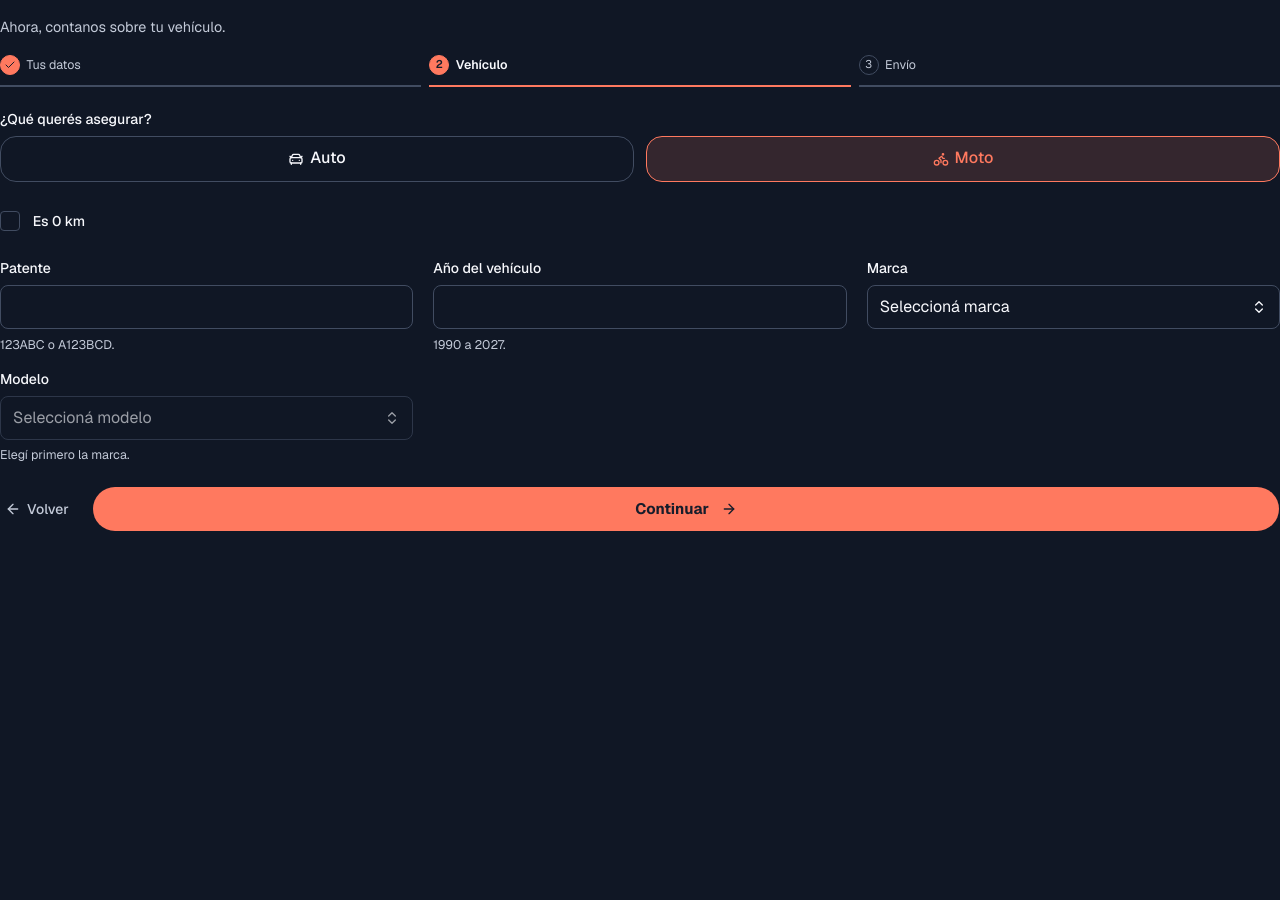
Test: LeadForm › reveals the correct stage when final submission returns an earlier field error
Earlier steps of the test are not shown.
Later steps or results of the test are not shown.
Type "A123BCD" into the field labelled "Patente".
click(207, 307); type("A123BCD")  # box top-left (0, 285), bottom-right (413, 329)
Click the dropdown labelled "marca".
click(945, 307)  # box top-left (867, 285), bottom-right (1279, 329)
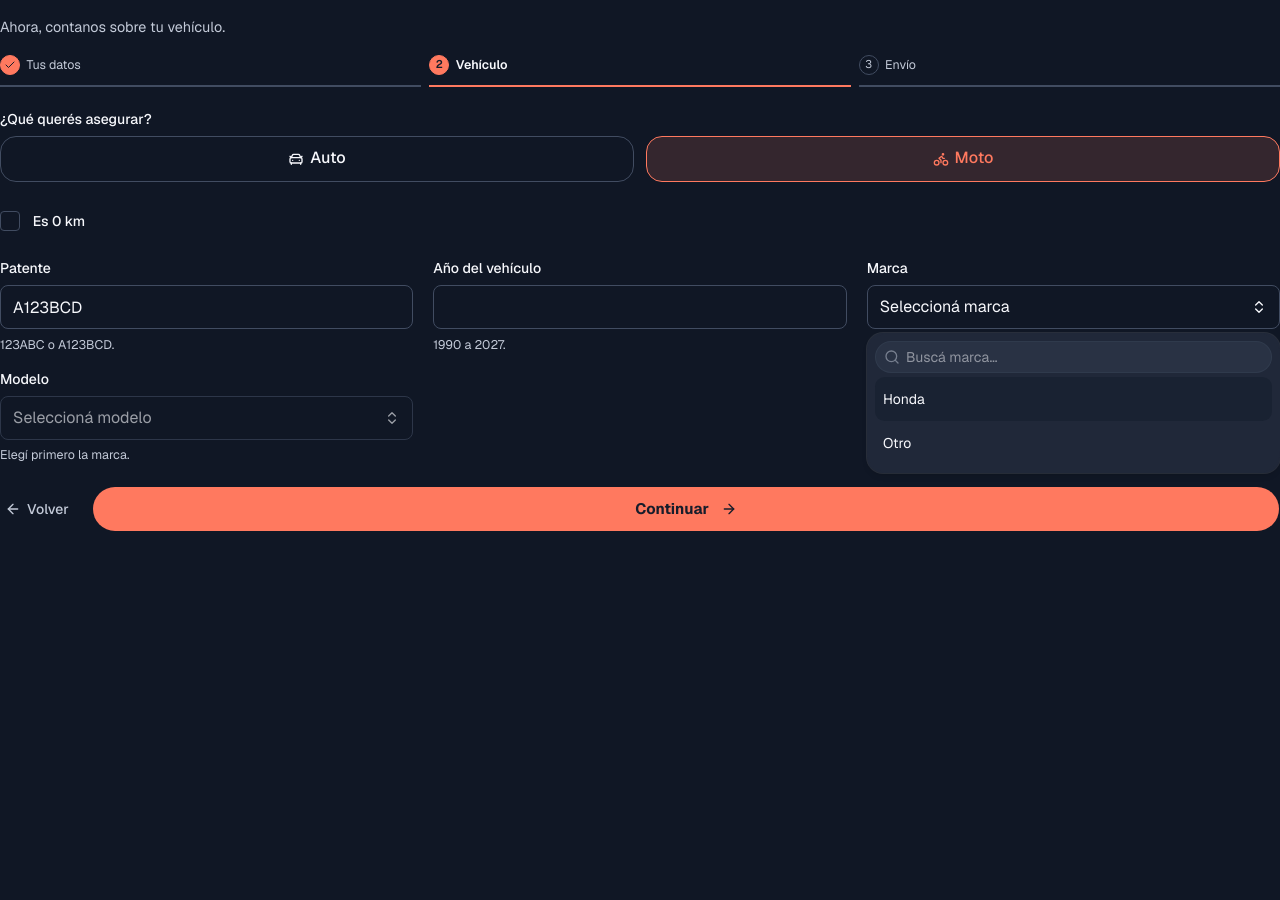
Click the option "Otro".
click(897, 443)  # box top-left (883, 434), bottom-right (911, 452)
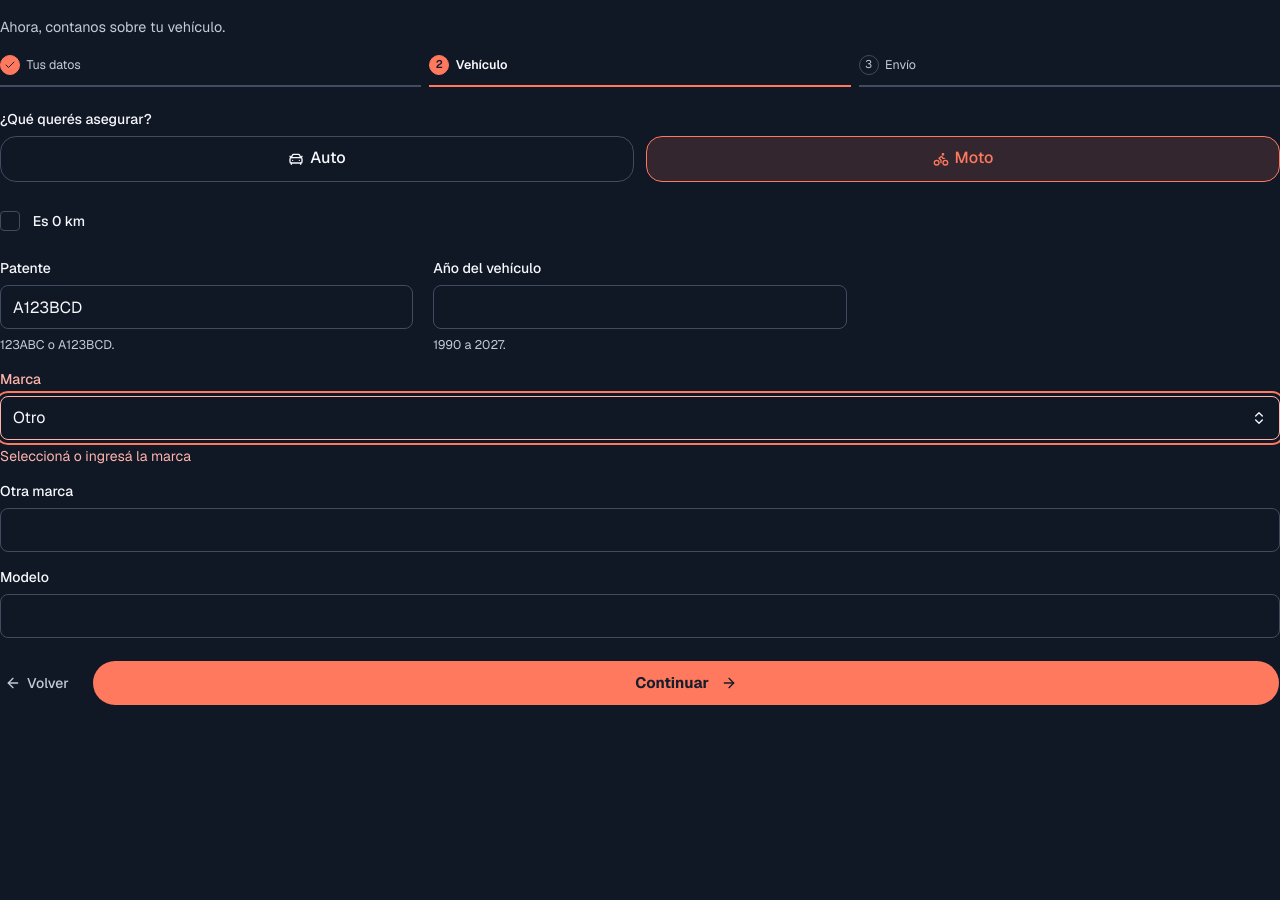
Type "Zanella" into the field labelled "Otra marca".
click(640, 530); type("Zanella")  # box top-left (0, 508), bottom-right (1279, 552)
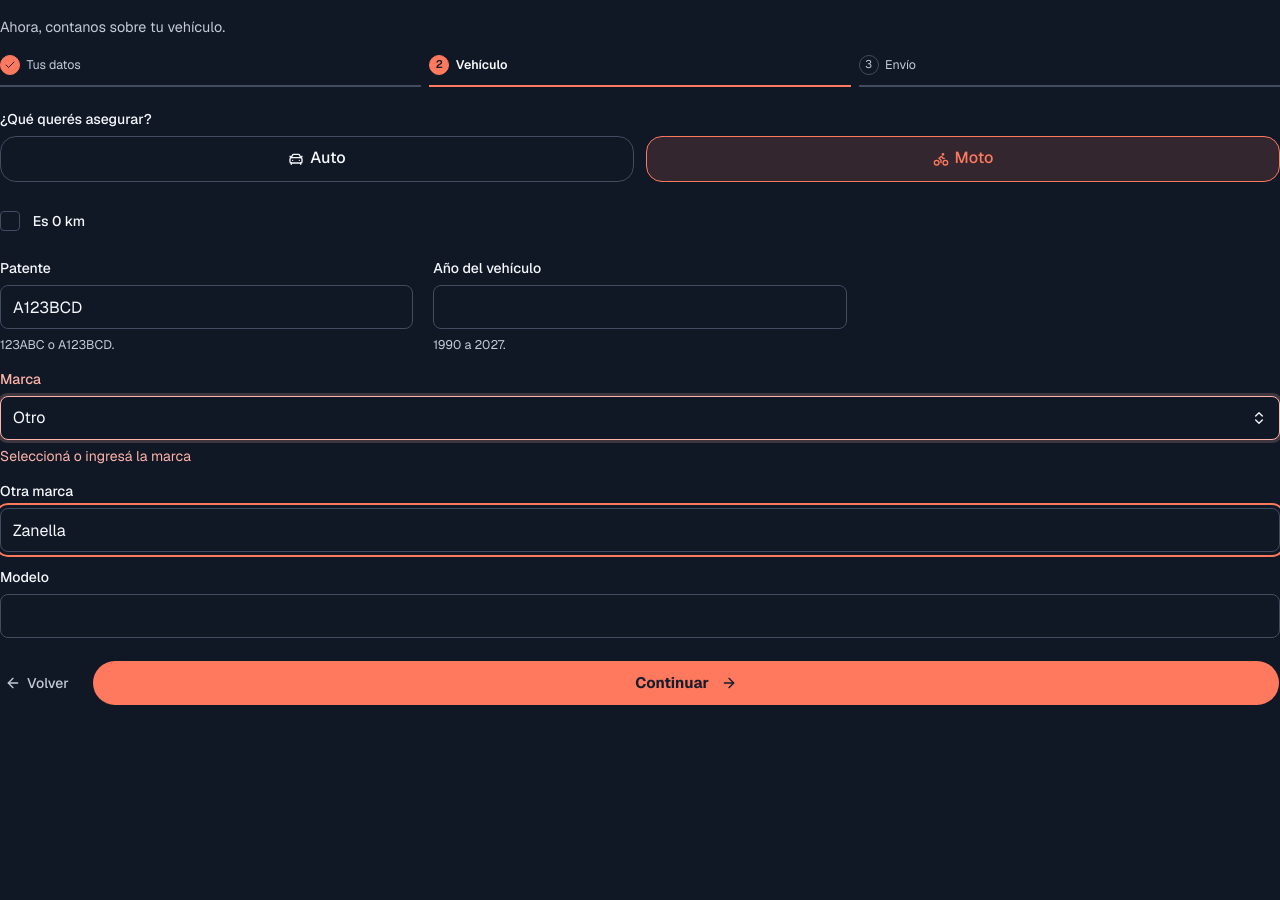
Type "ZB 110" into the field labelled "Modelo".
click(640, 616); type("ZB 110")  # box top-left (0, 594), bottom-right (1279, 638)
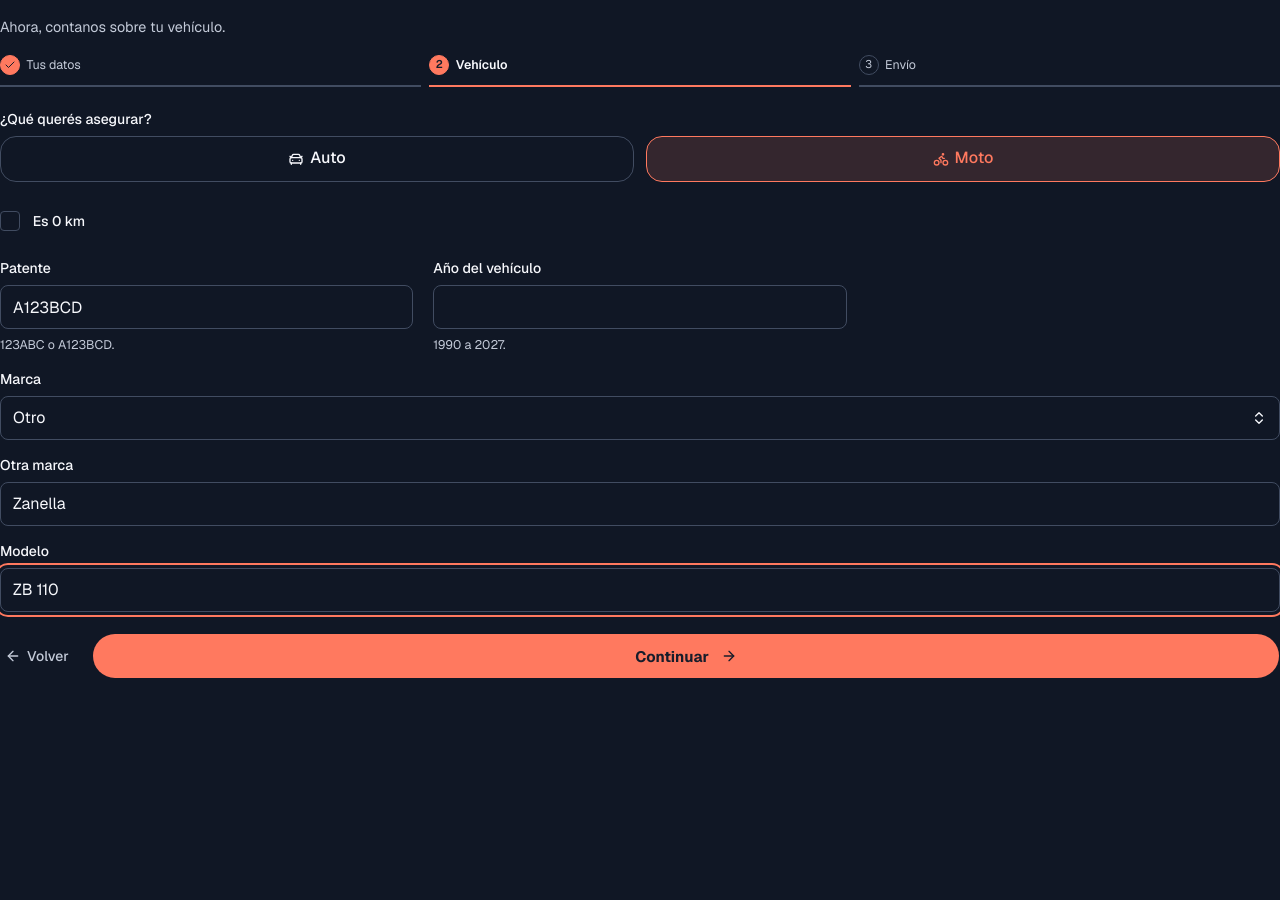
Type "2020" into the field labelled "Año del vehículo".
click(640, 307); type("2020")  # box top-left (433, 285), bottom-right (847, 329)
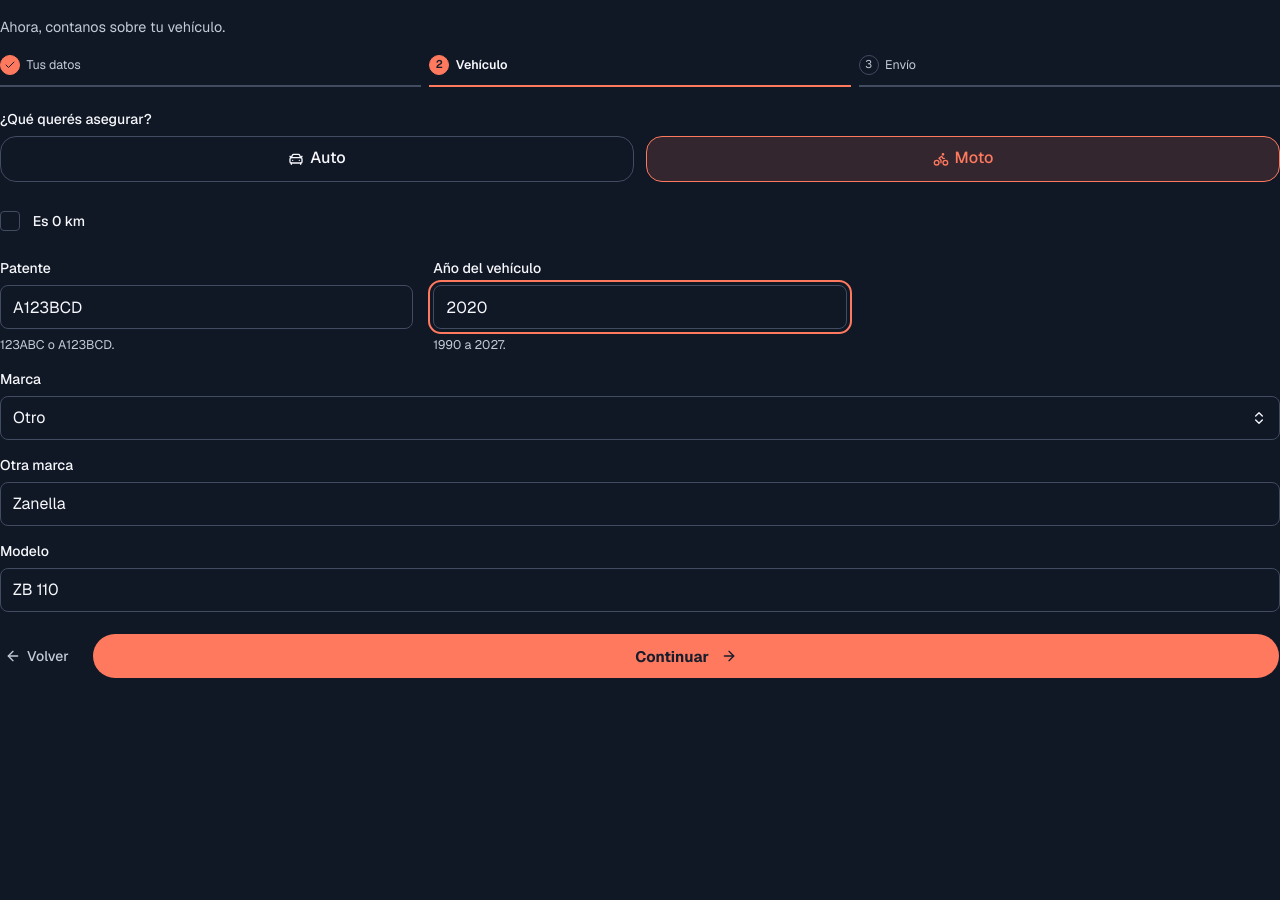
Expected: the field labelled "Código postal" is not shown
Expected: the field labelled "Tipo de uso" is not shown
Click the button with aria-label "Continuar a uso y envío".
click(686, 656)  # box top-left (92, 633), bottom-right (1279, 679)
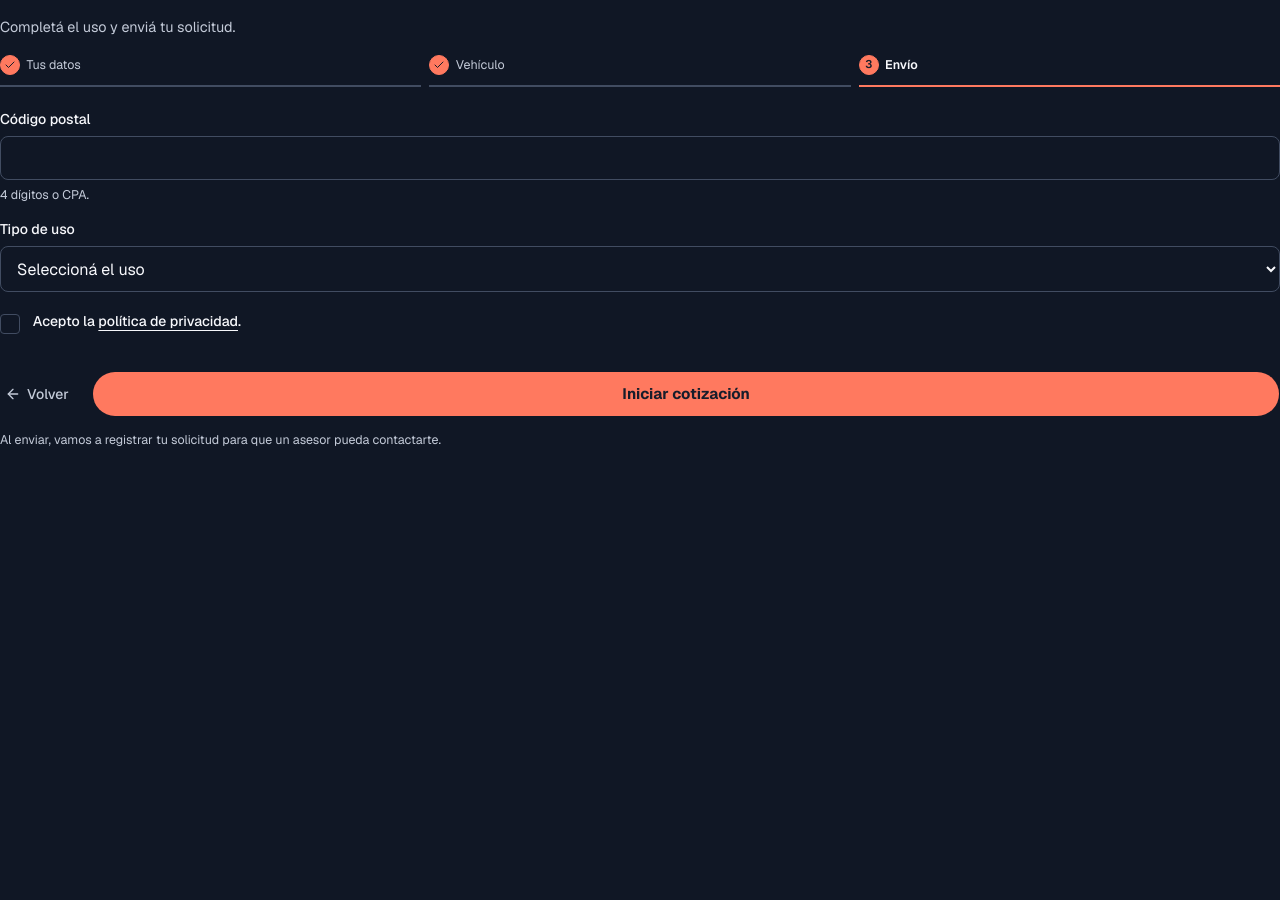
Expected: the element named "Uso y envío" is shown, top-left (0, 110), bottom-right (1279, 292)
